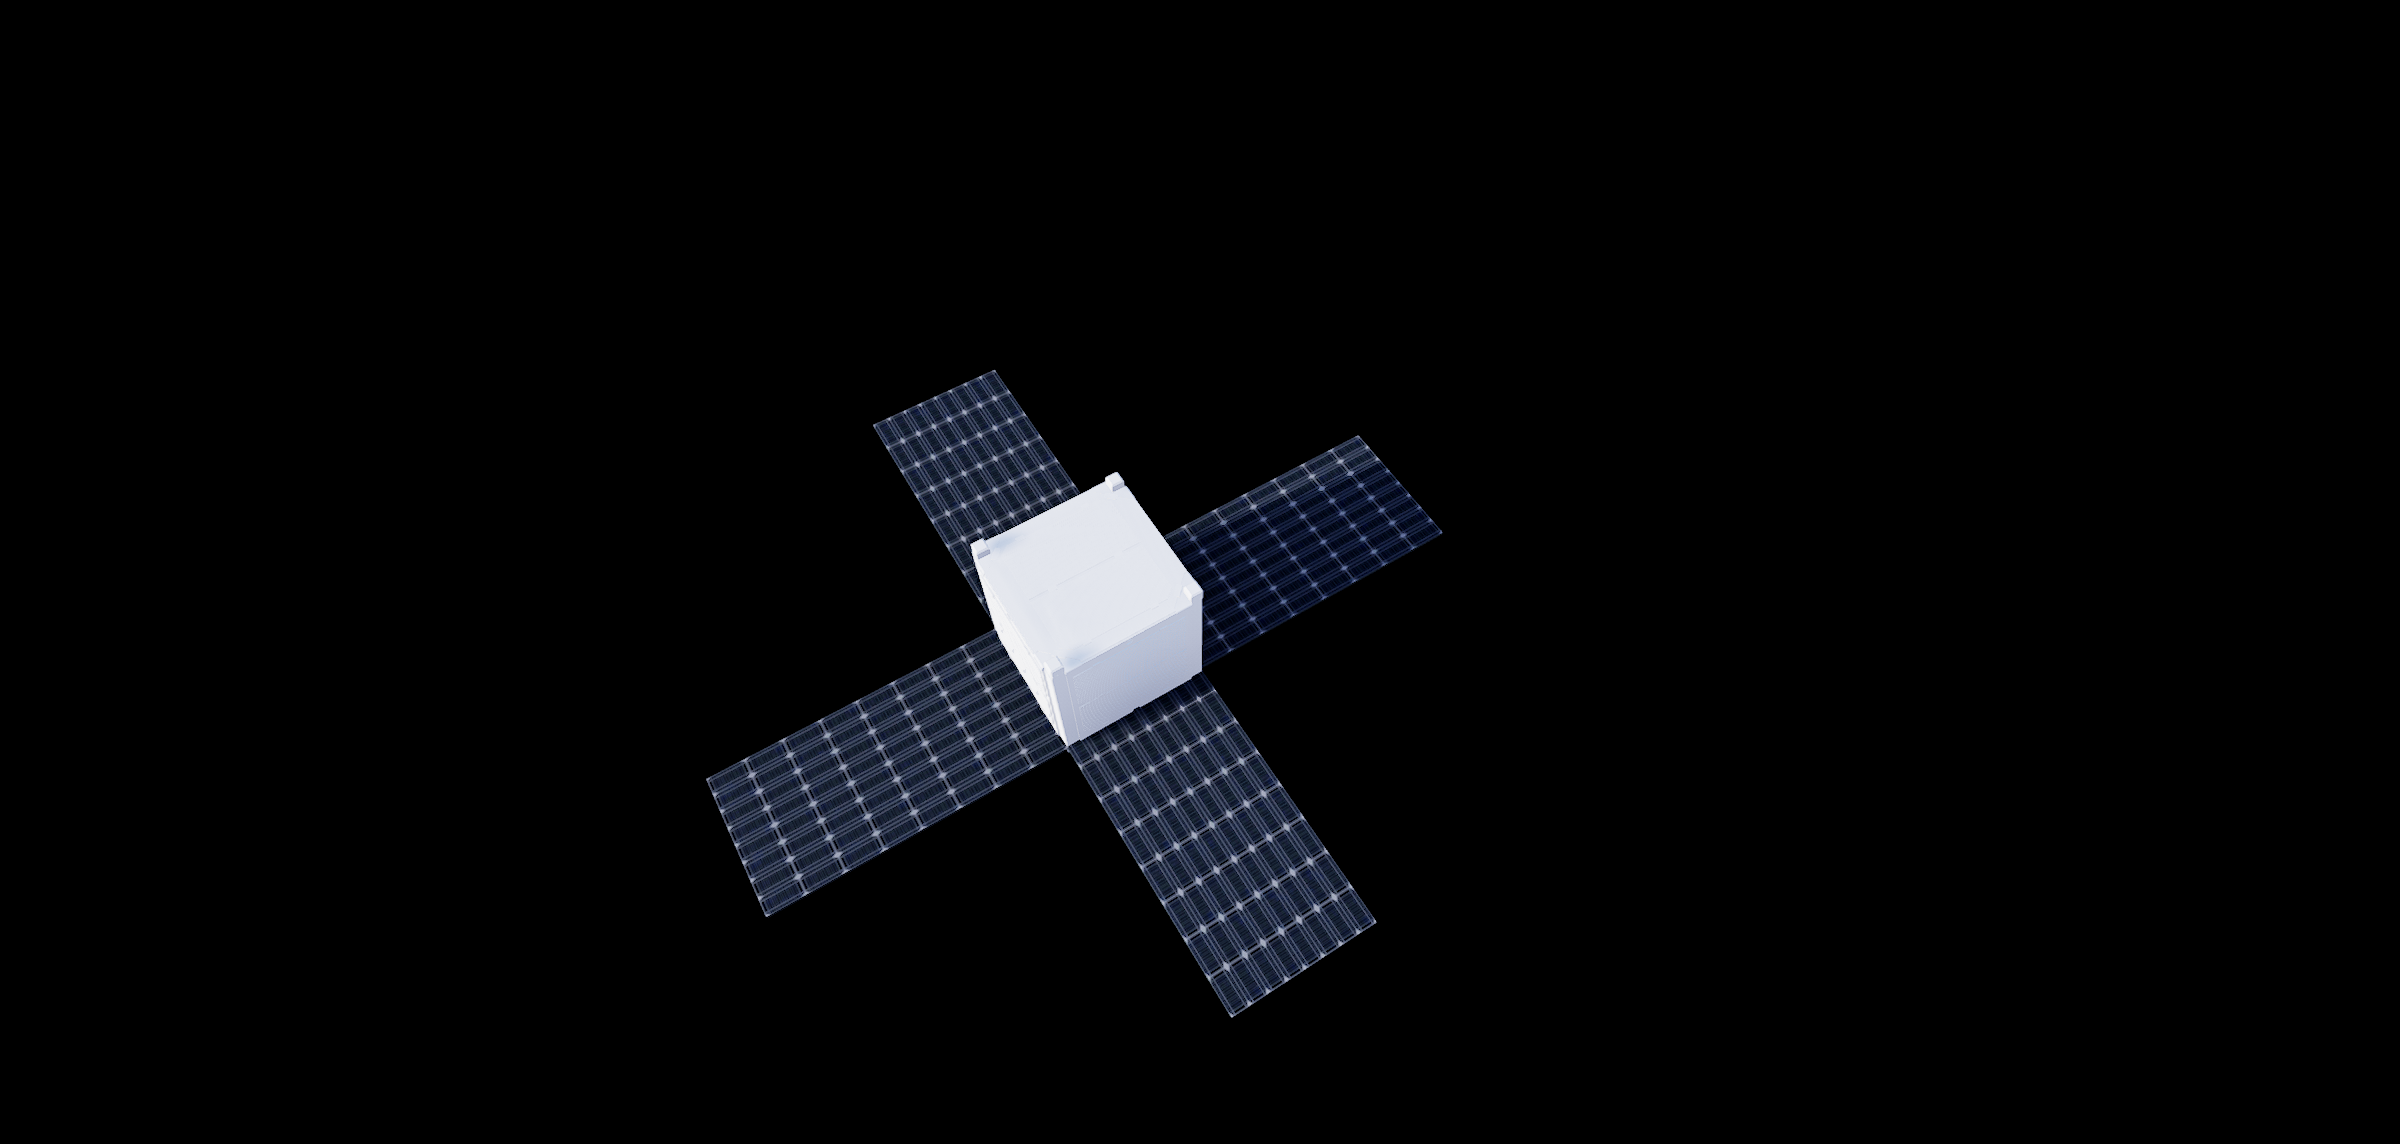satellite: (696, 355, 1505, 1012)
